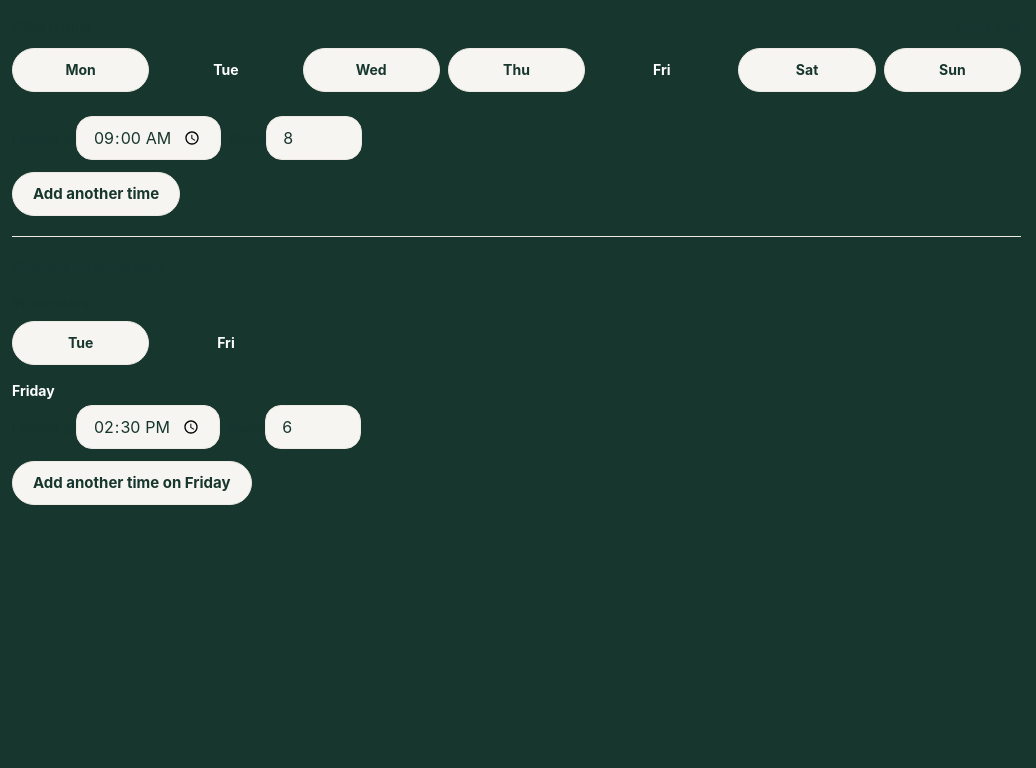
it: what would be refused, held back before it is sent › never folds a day's problem out of sight
This screenshot has width=1036, height=768.
Click the button "Add another time on Friday". click: point(132, 483)
box: [12,461,252,505]
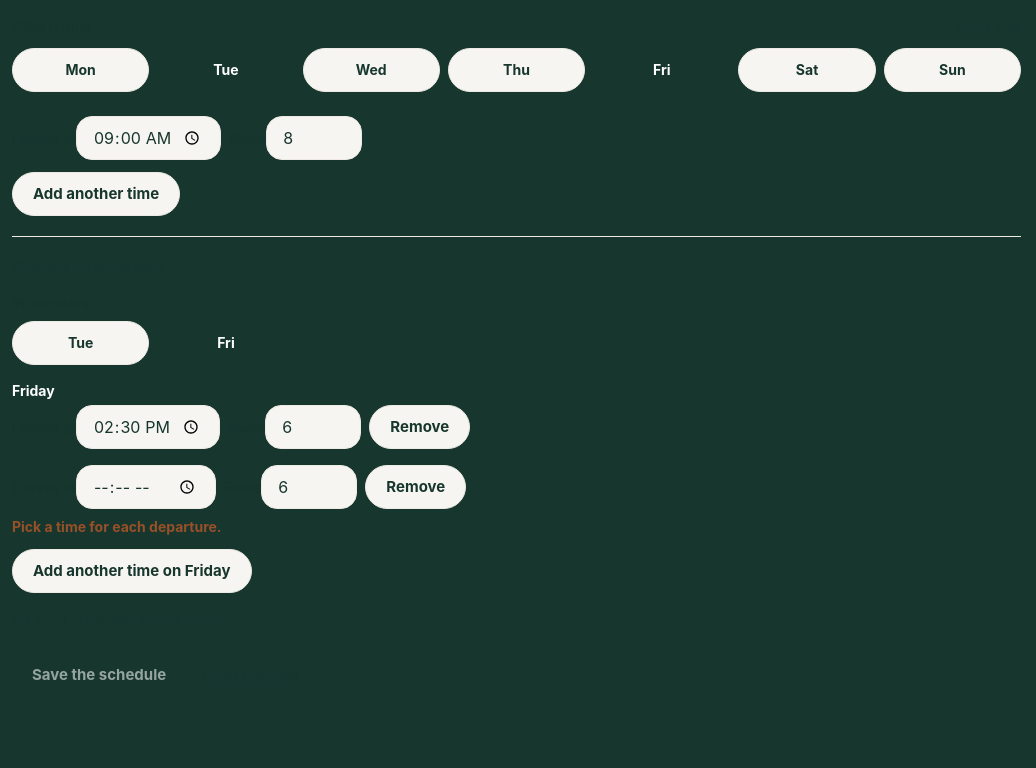
Expected: the text "Pick a time for each departure." is shown, [12,518,222,535]
